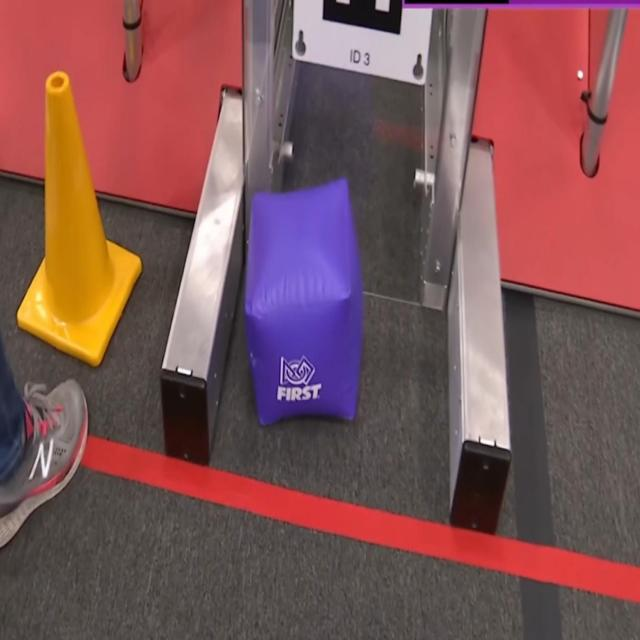frc_cone: (12, 71, 141, 370)
frc_cube: (241, 180, 368, 442)
